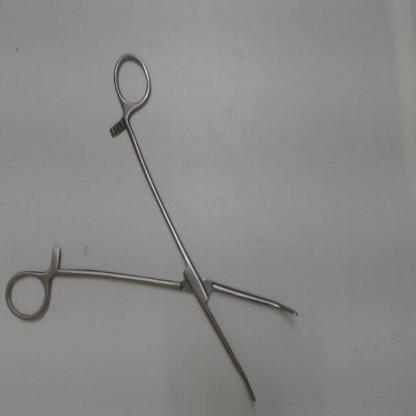Lahey Forceps: (2, 46, 309, 406)
